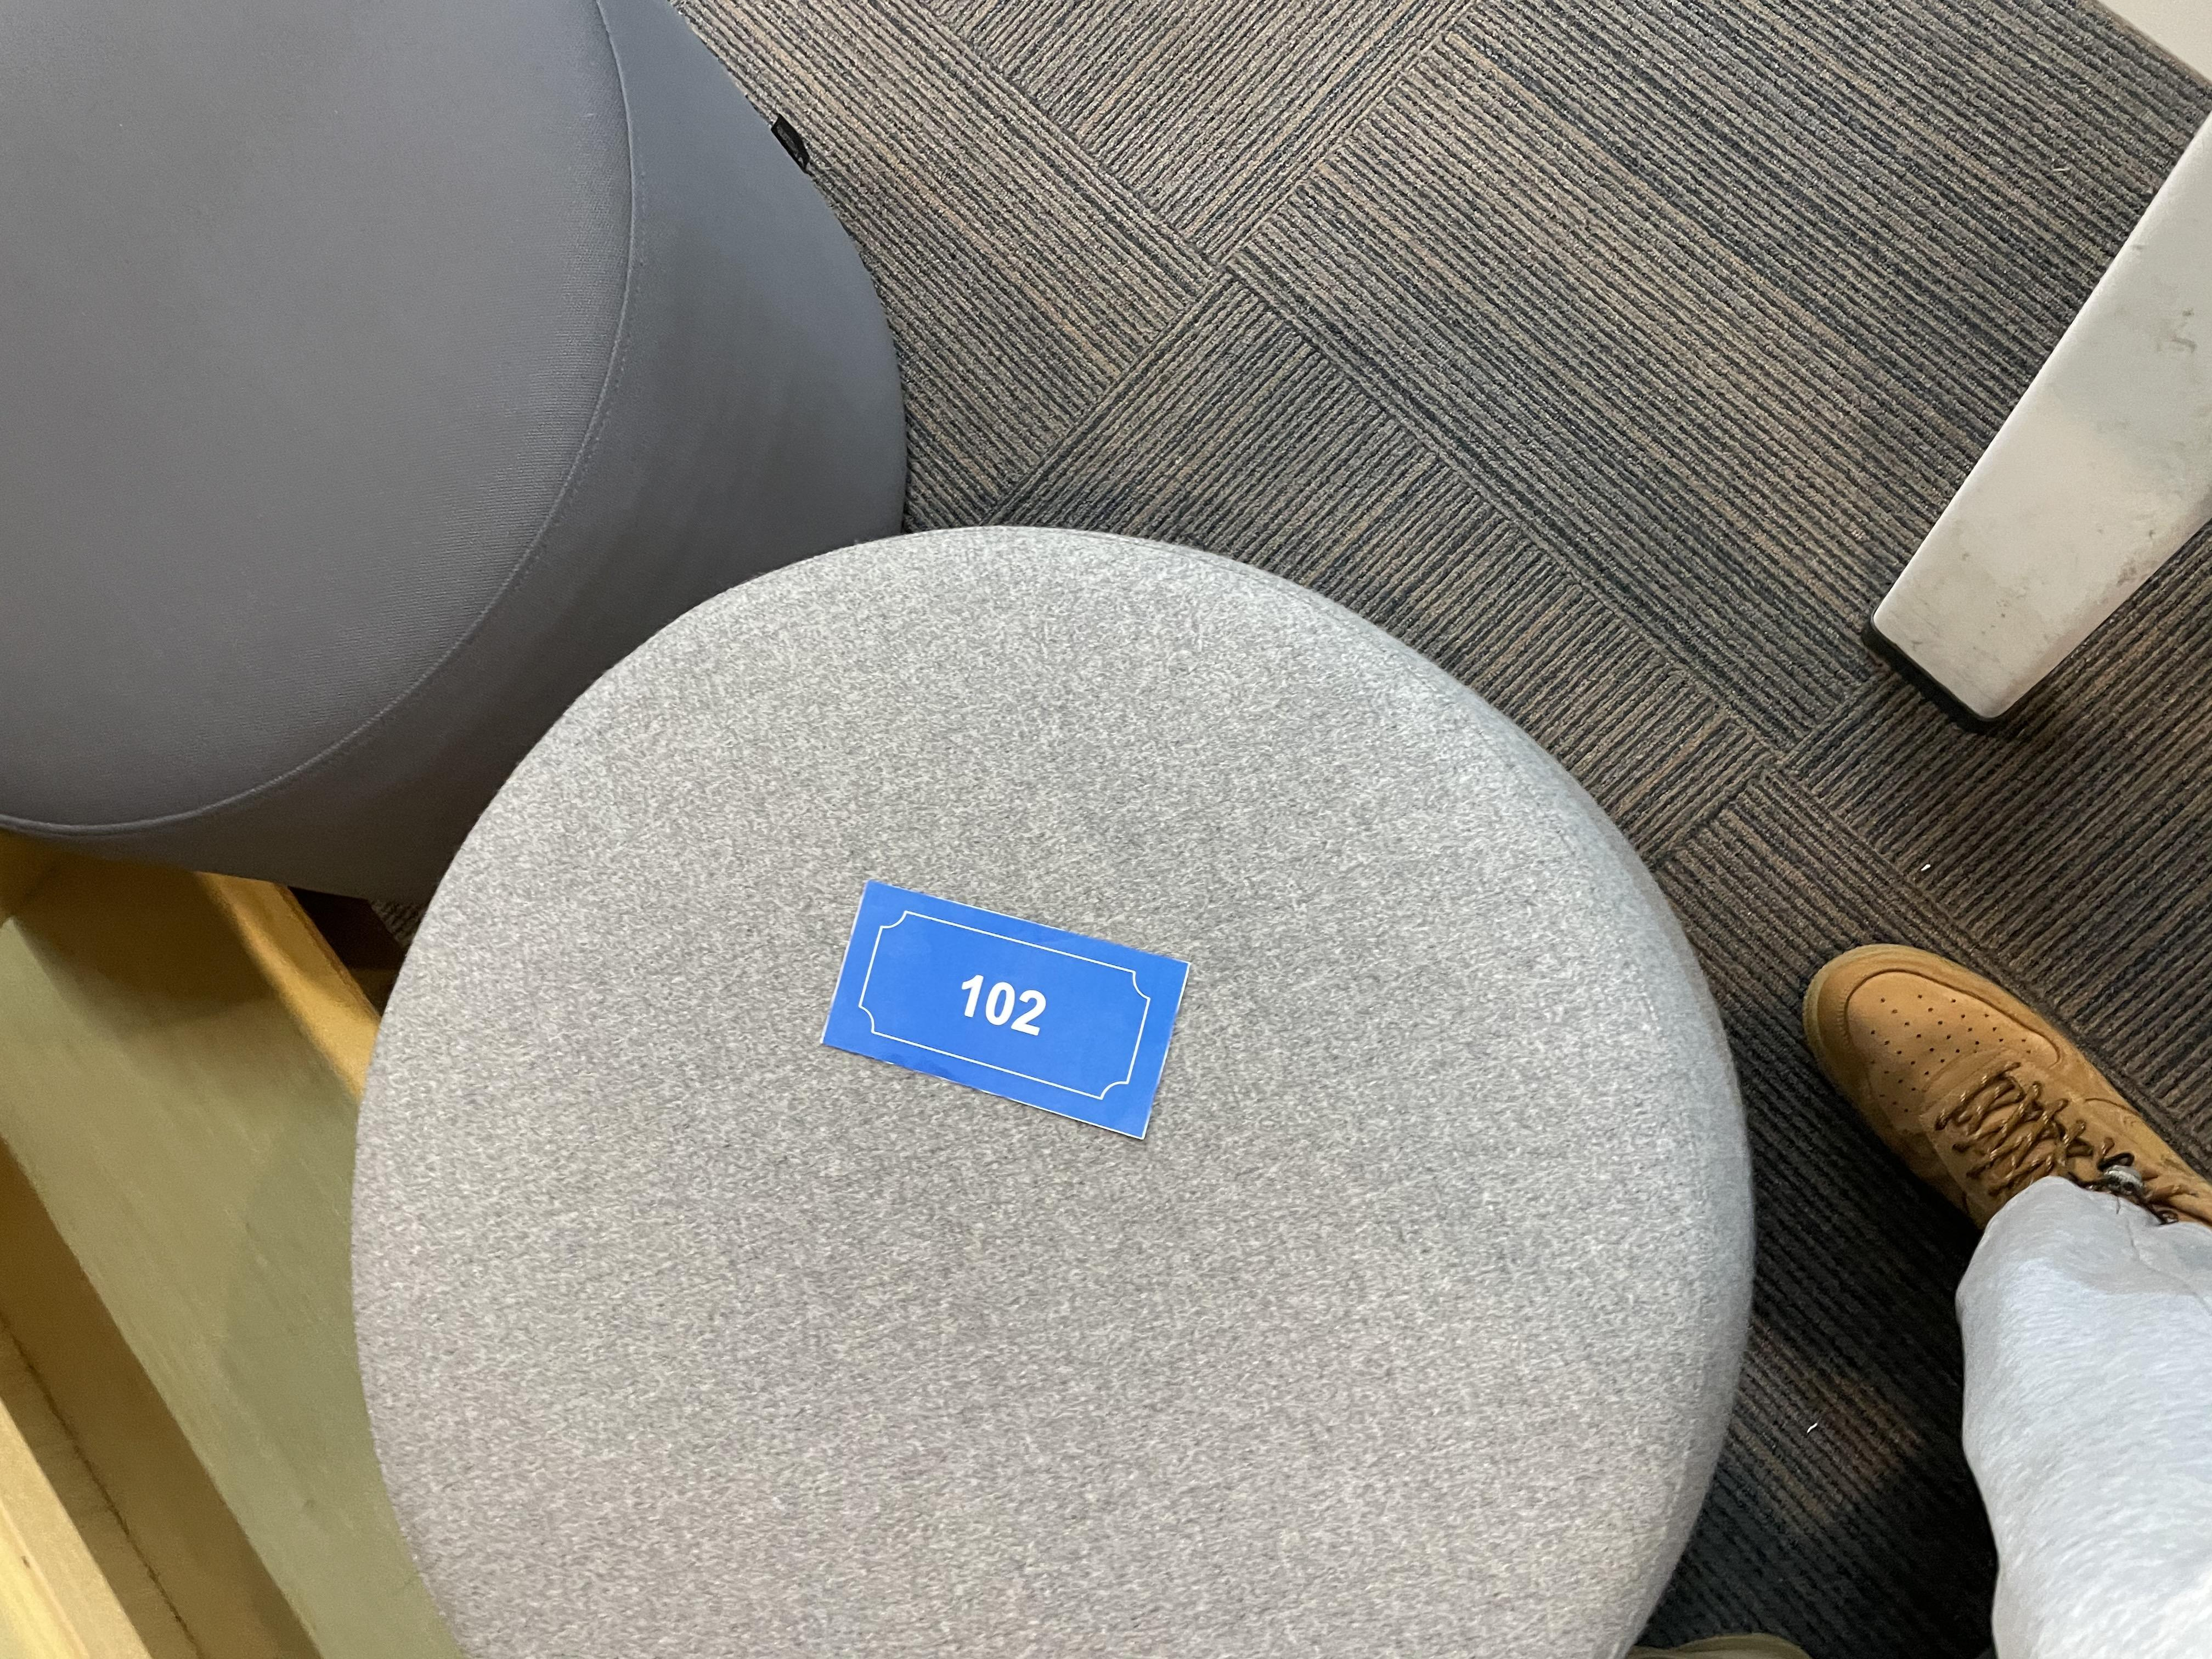Card: (792, 850, 1217, 1169)
